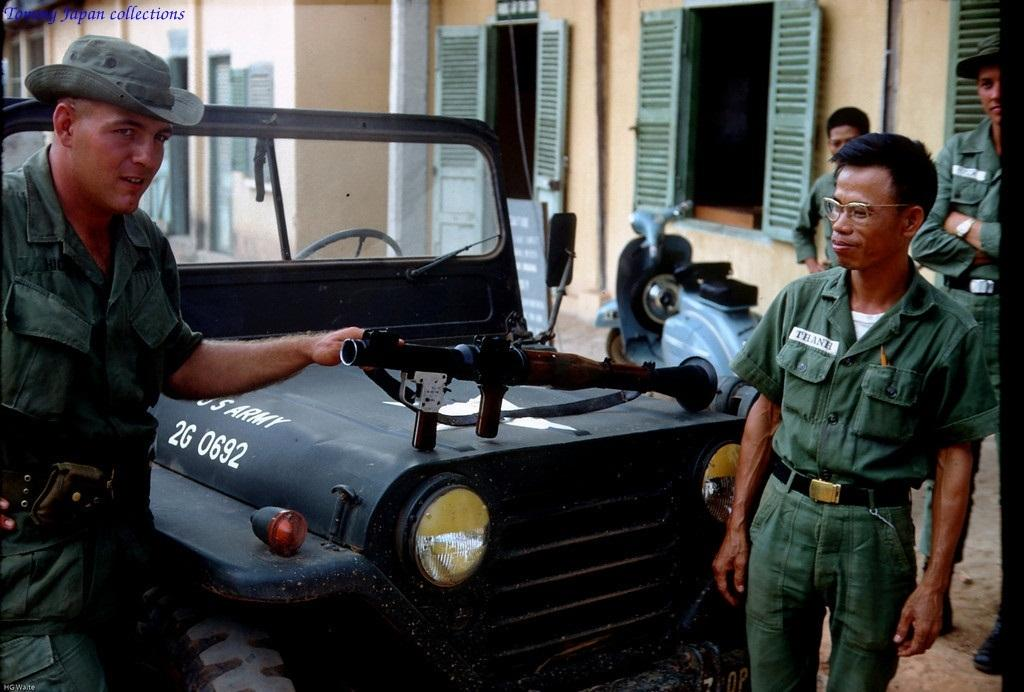Hat: (26, 31, 206, 127), (954, 36, 1004, 82)
